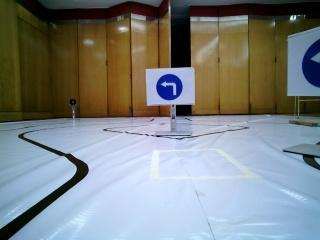left: (145, 70, 196, 101)
